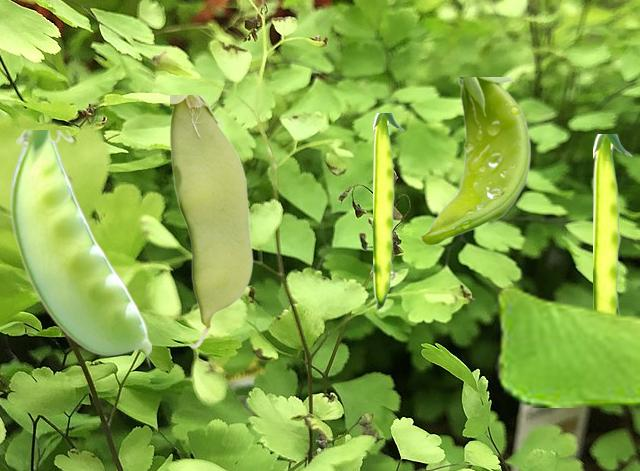pea: (9, 130, 150, 368), (170, 95, 252, 347), (418, 77, 529, 244), (593, 134, 631, 311), (373, 113, 403, 308)
